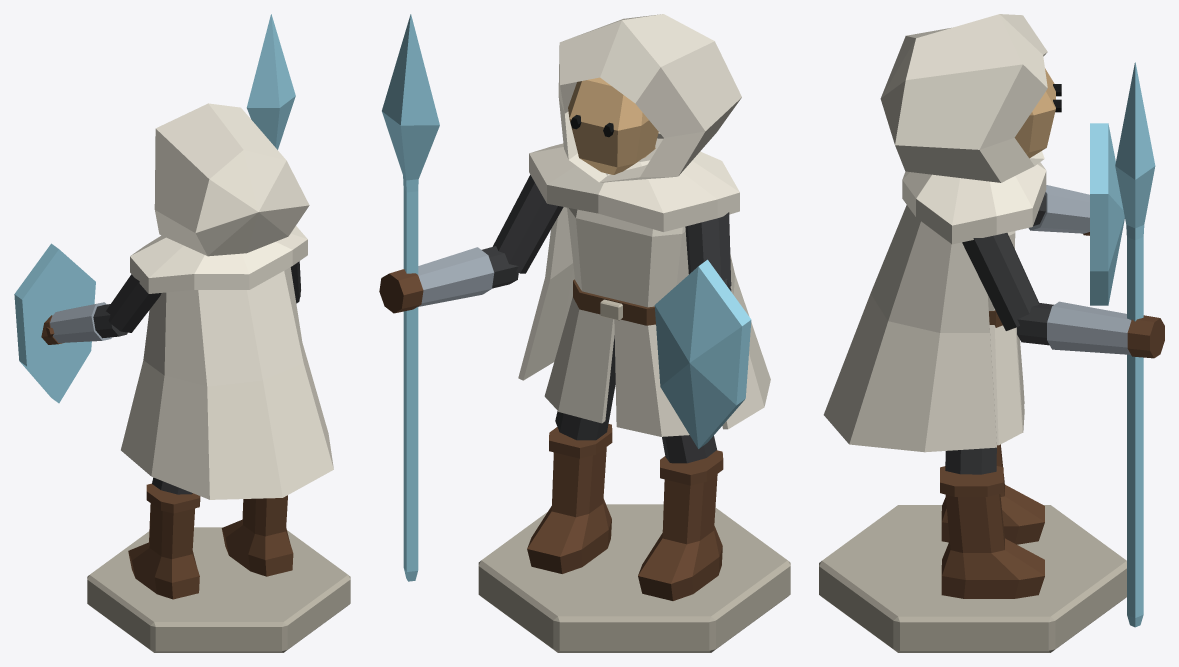
File: human_frostwarden_t4.glb
3 views of the same model, side by side, from view 1: azimuth 30°, elevation 25°; view 2: azimuth 150°, elevation 25°; view 3: azimuth 270°, elevation 25° (orthographic). The views are drawn at different scales.
Visible parts, largest first — view 1: Broad_Pointed_Back_Cape, Foundation_Hexagonal_Stone, Pointed_Open_Hood_Shell, frost_small_hexagonal_ice_shield, frost_one_connected_ivory_winter_collar, Boot_-1, Boot_1, frost_entire_continuous_ice_spear, left_upper_sleeve, left_bracer, Boot_Cuff_-1, left_lower_sleeve; view 2: Foundation_Hexagonal_Stone, Pointed_Open_Hood_Shell, frost_small_hexagonal_ice_shield, frost_entire_continuous_ice_spear, frost_one_connected_ivory_winter_collar, Continuous_Tunic_Bodice, Boot_-1, Boot_1, Broad_Pointed_Back_Cape, Angular_Face, Split_Tunic_Front_1, Split_Tunic_Front_-1 (+11 smaller); view 3: Broad_Pointed_Back_Cape, Foundation_Hexagonal_Stone, Pointed_Open_Hood_Shell, frost_entire_continuous_ice_spear, Boot_1, frost_one_connected_ivory_winter_collar, frost_small_hexagonal_ice_shield, right_upper_sleeve, right_bracer, Continuous_Split_Tunic_Skirt, Boot_-1, left_bracer (+5 smaller).
Part boxes in pixels (x1,y1,x2,y2): Broad_Pointed_Back_Cape: (121, 267, 333, 499); Foundation_Hexagonal_Stone: (87, 527, 350, 652); Pointed_Open_Hood_Shell: (154, 103, 309, 256); frost_small_hexagonal_ice_shield: (14, 243, 95, 403); frost_one_connected_ivory_winter_collar: (130, 226, 307, 293); Boot_-1: (128, 503, 199, 599); Boot_1: (221, 495, 293, 576); frost_entire_continuous_ice_spear: (246, 14, 295, 149); left_upper_sleeve: (106, 274, 161, 332); left_bracer: (50, 302, 111, 342); Boot_Cuff_-1: (146, 483, 200, 513); left_lower_sleeve: (93, 304, 127, 338); Foundation_Hexagonal_Stone: (478, 504, 790, 652); Pointed_Open_Hood_Shell: (558, 14, 741, 182); frost_small_hexagonal_ice_shield: (654, 259, 751, 448); frost_entire_continuous_ice_spear: (382, 14, 439, 581); frost_one_connected_ivory_winter_collar: (529, 133, 739, 231); Continuous_Tunic_Bodice: (567, 207, 688, 307); Boot_-1: (638, 474, 722, 600); Boot_1: (527, 447, 611, 573); Broad_Pointed_Back_Cape: (518, 207, 770, 429); Angular_Face: (568, 77, 658, 174); Split_Tunic_Front_1: (558, 309, 614, 423); Split_Tunic_Front_-1: (614, 319, 662, 436); Broad_Pointed_Back_Cape: (823, 205, 996, 452); Foundation_Hexagonal_Stone: (819, 505, 1126, 652); Pointed_Open_Hood_Shell: (880, 14, 1047, 182); frost_entire_continuous_ice_spear: (1115, 62, 1155, 627); Boot_1: (941, 494, 1044, 598); frost_one_connected_ivory_winter_collar: (902, 162, 1046, 244); frost_small_hexagonal_ice_shield: (1090, 123, 1124, 305); right_upper_sleeve: (962, 233, 1039, 330); right_bracer: (1047, 301, 1131, 354); Continuous_Split_Tunic_Skirt: (989, 325, 1022, 445); Boot_-1: (941, 444, 1044, 544); left_bracer: (1028, 185, 1089, 233).
Size of the model in its own units: 1.19 by 1.99 by 1.03.
